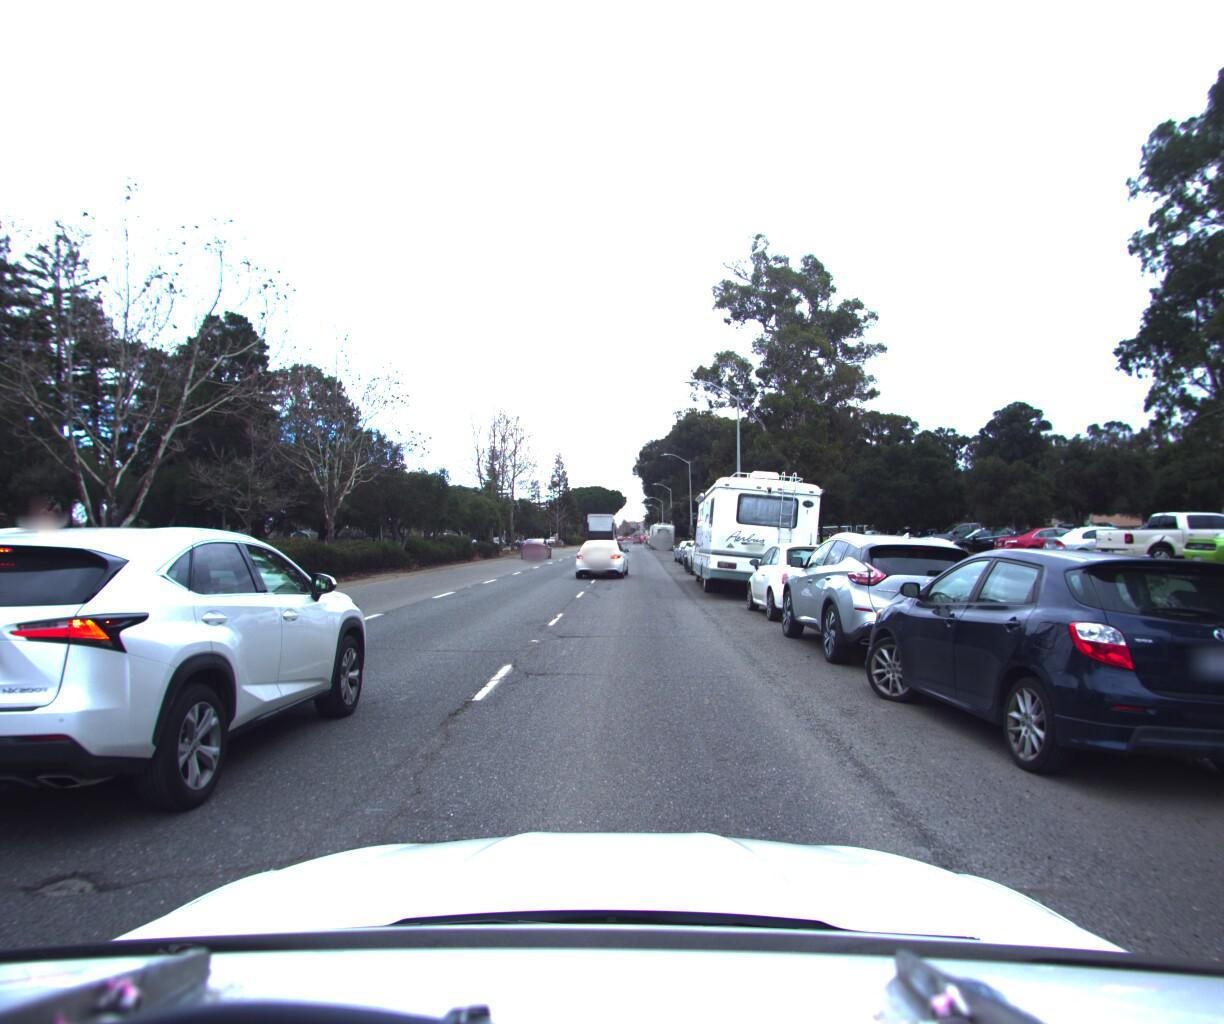car: (0, 518, 383, 843), (839, 533, 1224, 819), (766, 515, 1006, 678), (738, 531, 856, 620), (681, 524, 741, 573), (568, 530, 627, 575), (671, 532, 705, 557), (519, 532, 550, 555)
other_vehicle: (685, 455, 833, 599)
truck: (586, 502, 620, 547)
